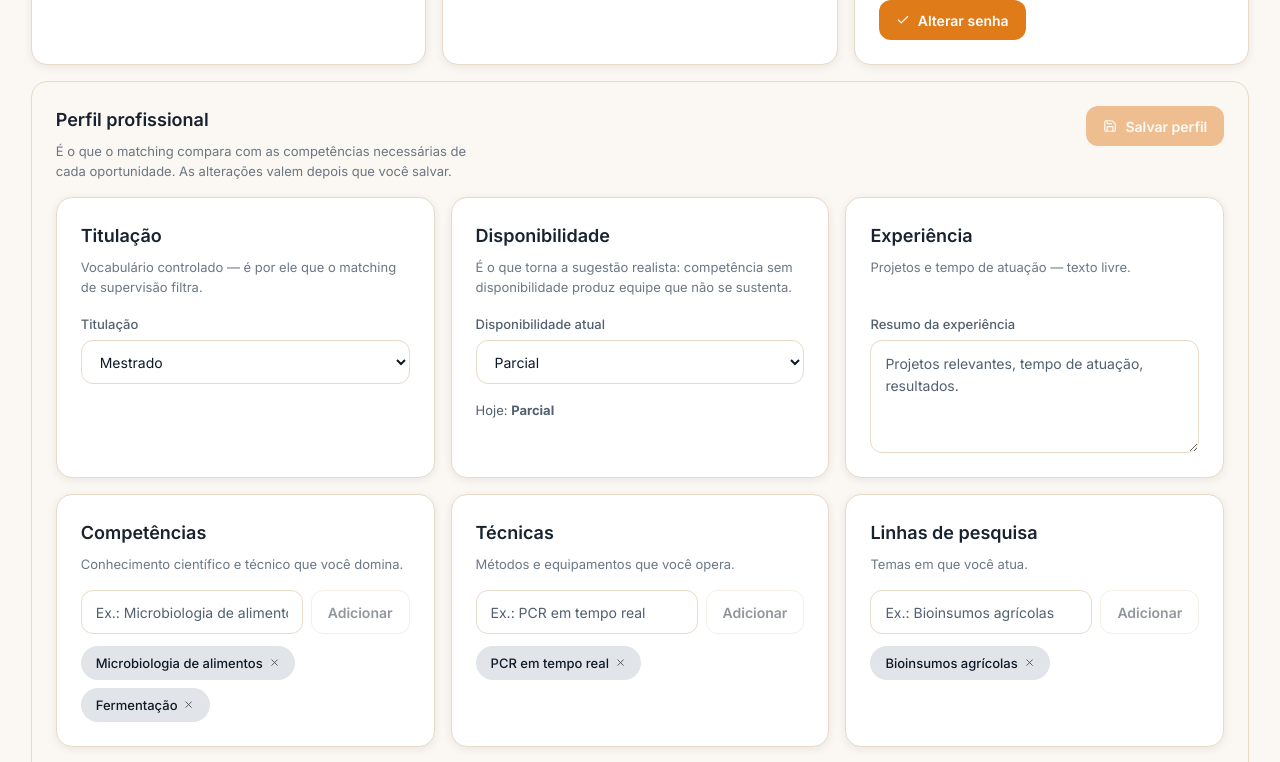
it: PerfilPage › não grava sozinho: só o botão Salvar manda para a API
The width and height of the screenshot is (1280, 762).
(page scrolled)
Expected: the heading "Perfil profissional" is shown, [56, 109, 209, 130]
Expected: the button "Salvar perfil" is disabled, [1086, 106, 1224, 146]
Select "Doutorado" in the dropdown labelled "Titulação": (245,362) [81, 340, 410, 384]
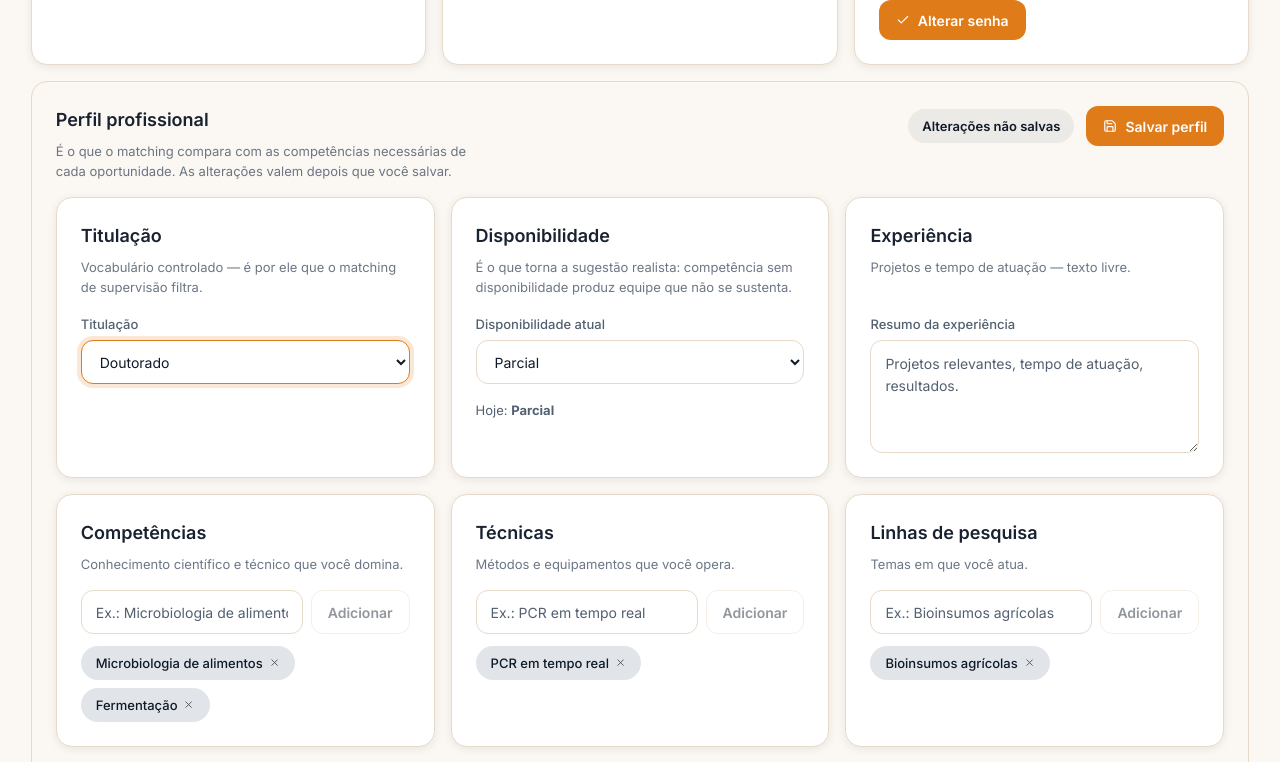
Expected: the button "Salvar perfil" is enabled
Click the button "Salvar perfil": (1155,126) [1086, 106, 1224, 146]
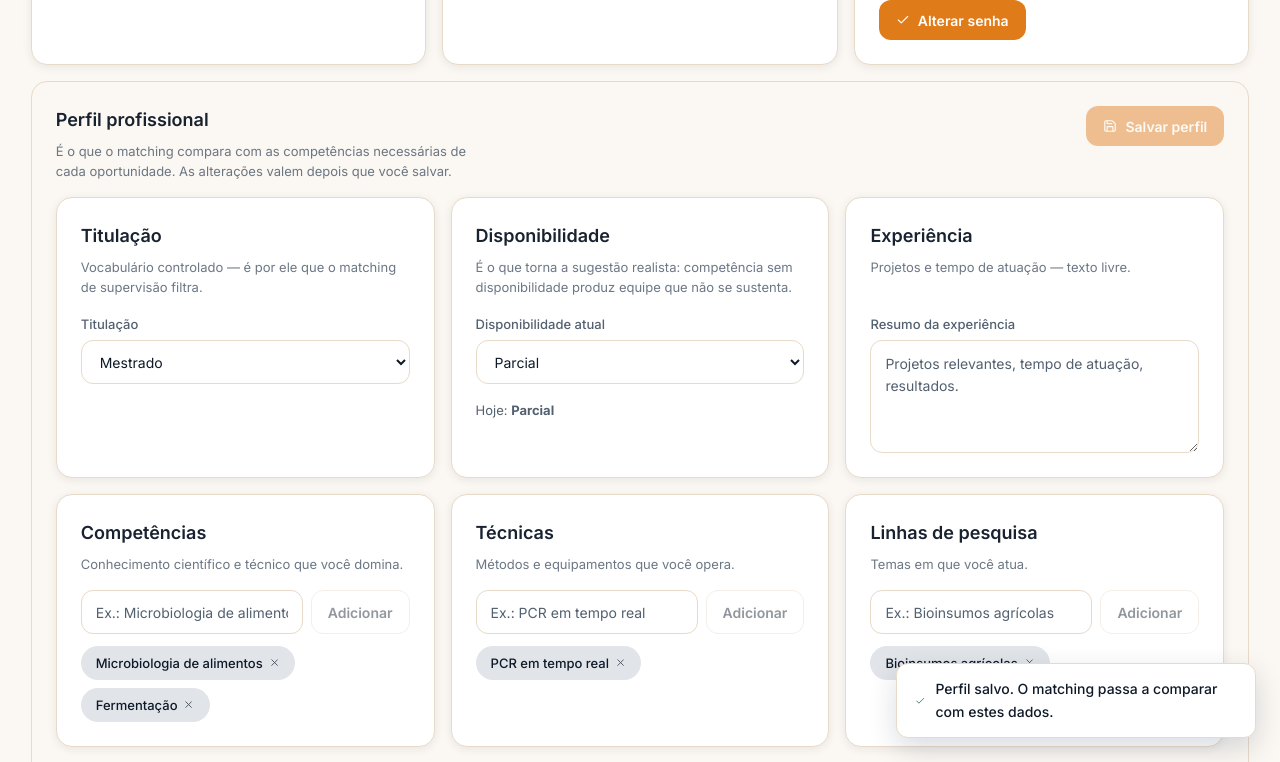
Expected: the text "Perfil salvo. O matching passa a comparar com estes dados." is shown, [896, 663, 1256, 738]
